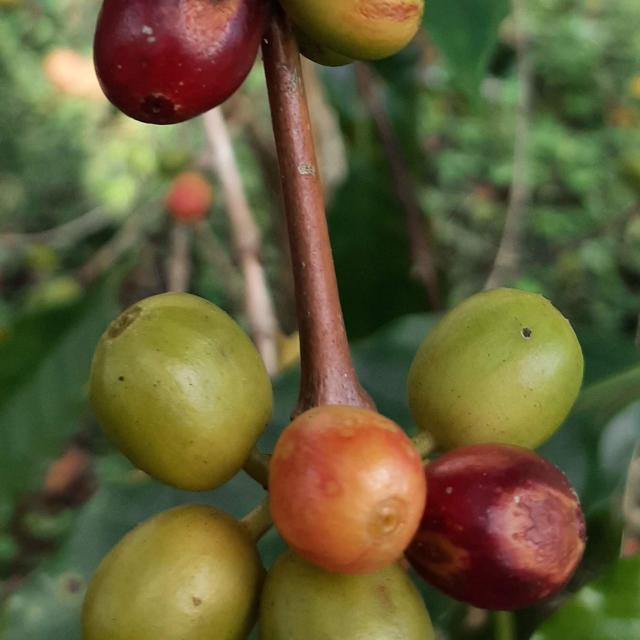red: (406, 444, 587, 611), (93, 0, 267, 124)
yellow: (89, 293, 273, 492), (408, 288, 585, 451), (269, 405, 427, 576), (81, 505, 264, 640), (259, 551, 436, 640), (280, 0, 424, 59)
